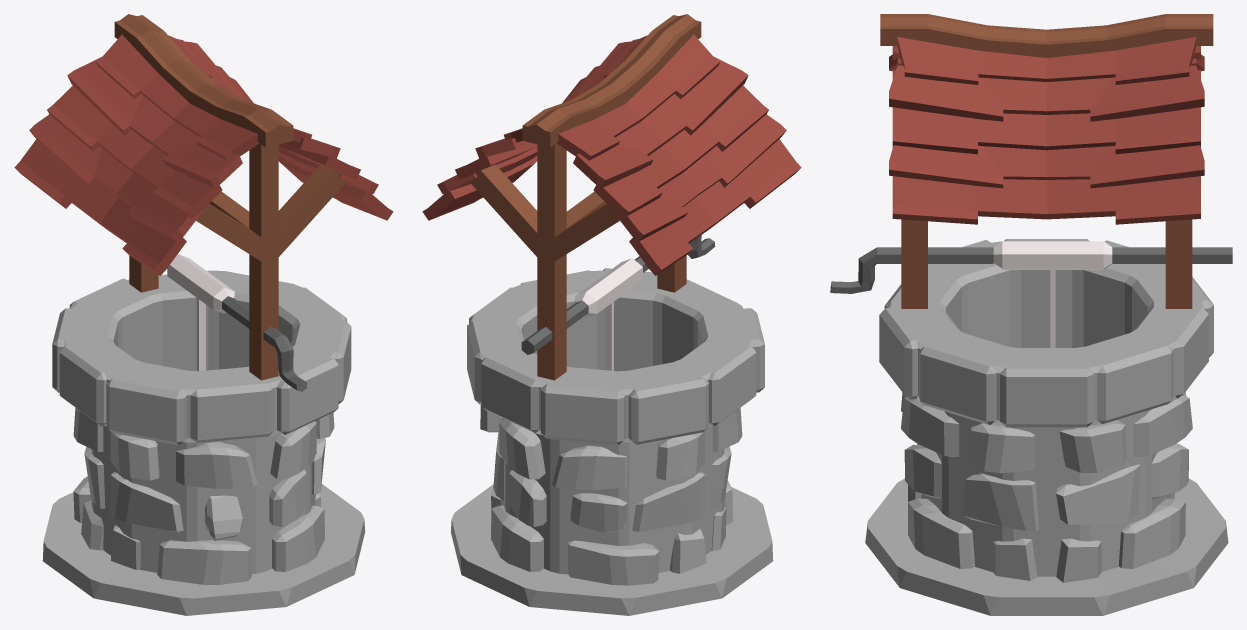
The model's file is well.glb.
3 views of the same model, side by side, from view 1: azimuth 30°, elevation 25°; view 2: azimuth 150°, elevation 25°; view 3: azimuth 270°, elevation 25° (orthographic). The views are drawn at different scales.
Visible parts, largest first — view 1: Well; view 2: Well; view 3: Well.
Part boxes in pixels (<box>): Well: <box>14,14,393,615</box>; Well: <box>422,14,801,615</box>; Well: <box>830,14,1232,615</box>.
Bounding box in the file's own units: 1.28 × 2.15 × 1.49.
